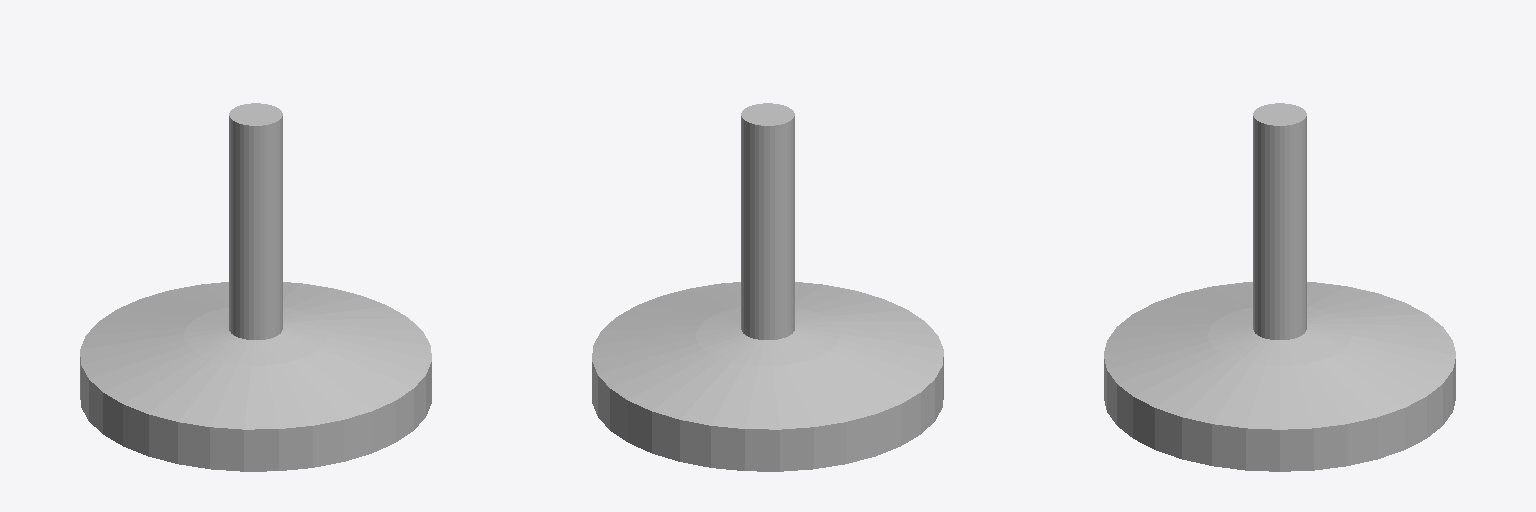
3 views of the same model, side by side, from view 1: azimuth 30°, elevation 25°; view 2: azimuth 150°, elevation 25°; view 3: azimuth 270°, elevation 25° (orthographic).
Parts seen in each view (by area): view 1: Base; view 2: Base; view 3: Base.
Boxes of the visible parts, box(x1,y1,x2,y2) form: Base: box(80, 103, 431, 471); Base: box(592, 103, 943, 471); Base: box(1104, 103, 1455, 471).
Bounding box in the file's own units: 2.95 × 2.61 × 2.95.